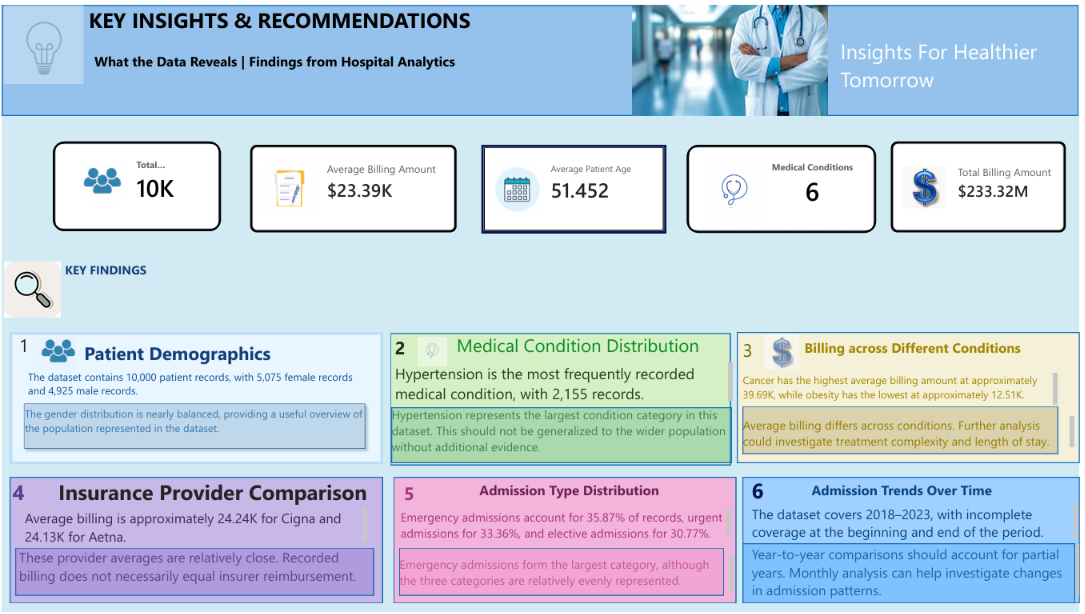

The dashboard page shown, as its layout file describes it:
{"tool":"powerbi","page":{"name":"Key Insights & Recommendations","canvas":[1920,1080],"ordinal":4},"visuals":[{"type":"shape","box":[0,0,1918,196],"z":0},{"type":"textbox","box":[153.6,0,728.8,182.4],"z":1000},{"type":"image","box":[3.2,0,142.4,140.8],"z":2000},{"type":"image","box":[1094,0,408,196],"z":3000},{"type":"textbox","box":[1494,56,424,117.6],"z":4000},{"type":"cardVisual","fields":{"Data":["Healthcare_Data_v1__1.Total Patients"]},"box":[90,242,300,160],"z":5000},{"type":"cardVisual","fields":{"Data":["Healthcare_Data_v1__1.Average Billing Amount"]},"box":[442,248,368,156],"z":6000},{"type":"cardVisual","fields":{"Data":["Healthcare_Data_v1__1.Medical Conditions"]},"box":[1220,248,338,157.2],"z":7000},{"type":"cardVisual","fields":{"Data":["Healthcare_Data_v1__1.Average Patient Age"]},"box":[854,248,330,158],"z":8000},{"type":"textbox","box":[112,456,300,168],"z":9000},{"type":"image","box":[0,456,108,100],"z":10000},{"type":"shape","box":[14,582,664,234],"z":11000},{"type":"textbox","box":[30,582,48,84],"z":12000},{"type":"image","box":[46,582,108,66],"z":13000},{"type":"textbox","box":[146,596,664,168],"z":14000},{"type":"textbox","box":[46,648,610,168],"z":15000},{"type":"textbox","box":[40,714,610,168],"z":16000},{"type":"shape","box":[30,700,626,98],"z":17000},{"type":"shape","box":[692,584,606,234],"z":18000},{"type":"textbox","box":[810,582,476,76],"z":19000},{"type":"image","box":[730,590,74,52],"z":20000},{"type":"textbox","box":[700,586,60,62],"z":21000},{"type":"textbox","box":[700,636,602,78],"z":22000},{"type":"textbox","box":[694,714,610,168],"z":23000},{"type":"shape","box":[694,716,606,98],"z":24000},{"type":"shape","box":[1310,582,610,232],"z":25000},{"type":"textbox","box":[1430,592,412,54],"z":26000},{"type":"textbox","box":[1320,654,562,62],"z":27000},{"type":"textbox","box":[1320,590,34,52],"z":28000},{"type":"textbox","box":[1320,732,592,64],"z":29000},{"type":"image","box":[1354,586,72,62],"z":30000},{"type":"shape","box":[1320,714,562,84],"z":31000},{"type":"shape","box":[14,840,664,224],"z":32000},{"type":"textbox","box":[18,840,24,56],"z":33000},{"type":"textbox","box":[90,840,566,70],"z":34000},{"type":"textbox","box":[40,896,610,70],"z":35000},{"type":"textbox","box":[30,966,610,114],"z":36000},{"type":"shape","box":[24,966,638,84],"z":37000},{"type":"shape","box":[698,840,610,224],"z":38000},{"type":"textbox","box":[844,846,340,42],"z":39000},{"type":"textbox","box":[716,846,26,56],"z":40000},{"type":"textbox","box":[710,896,590,62],"z":41000},{"type":"textbox","box":[708,980,596,70],"z":42000},{"type":"shape","box":[708,966,578,84],"z":43000},{"type":"shape","box":[1320,840,600,224],"z":44000},{"type":"textbox","box":[1436,846,330,50],"z":45000},{"type":"textbox","box":[1336,838,34,66],"z":46000},{"type":"textbox","box":[1336,888,582,72],"z":47000},{"type":"textbox","box":[1336,960,584,104],"z":48000},{"type":"shape","box":[1320,958,592,106],"z":49000},{"type":"cardVisual","fields":{"Data":["Healthcare_Data_v1__1.Total Billing Amount"]},"box":[1584,242,312,162],"z":49001}]}

Visuals, with their boxes in screenshot pixels (x1, y1, x2, y2), scaled from the page's 1920x1080 canvas onto the 1085x614 screenshot:
shape: rect(0, 0, 1084, 111)
textbox: rect(87, 0, 499, 104)
image: rect(2, 0, 82, 80)
image: rect(618, 0, 849, 111)
textbox: rect(844, 32, 1084, 99)
cardVisual - Healthcare_Data_v1__1.Total Patients: rect(51, 138, 220, 229)
cardVisual - Healthcare_Data_v1__1.Average Billing Amount: rect(250, 141, 458, 230)
cardVisual - Healthcare_Data_v1__1.Medical Conditions: rect(689, 141, 880, 230)
cardVisual - Healthcare_Data_v1__1.Average Patient Age: rect(483, 141, 669, 231)
textbox: rect(63, 259, 233, 355)
image: rect(0, 259, 61, 316)
shape: rect(8, 331, 383, 464)
textbox: rect(17, 331, 44, 379)
image: rect(26, 331, 87, 368)
textbox: rect(83, 339, 458, 434)
textbox: rect(26, 368, 371, 464)
textbox: rect(23, 406, 367, 501)
shape: rect(17, 398, 371, 454)
shape: rect(391, 332, 734, 465)
textbox: rect(458, 331, 727, 374)
image: rect(413, 335, 454, 365)
textbox: rect(396, 333, 429, 368)
textbox: rect(396, 362, 736, 406)
textbox: rect(392, 406, 737, 501)
shape: rect(392, 407, 735, 463)
shape: rect(740, 331, 1084, 463)
textbox: rect(808, 337, 1041, 367)
textbox: rect(746, 372, 1064, 407)
textbox: rect(746, 335, 765, 365)
textbox: rect(746, 416, 1080, 453)
image: rect(765, 333, 806, 368)
shape: rect(746, 406, 1064, 454)
shape: rect(8, 478, 383, 605)
textbox: rect(10, 478, 24, 509)
textbox: rect(51, 478, 371, 517)
textbox: rect(23, 509, 367, 549)
textbox: rect(17, 549, 362, 613)
shape: rect(14, 549, 374, 597)
shape: rect(394, 478, 739, 605)
textbox: rect(477, 481, 669, 505)
textbox: rect(405, 481, 419, 513)
textbox: rect(401, 509, 735, 545)
textbox: rect(400, 557, 737, 597)
shape: rect(400, 549, 727, 597)
shape: rect(746, 478, 1084, 605)
textbox: rect(811, 481, 998, 509)
textbox: rect(755, 476, 774, 514)
textbox: rect(755, 505, 1084, 546)
textbox: rect(755, 546, 1084, 605)
shape: rect(746, 545, 1080, 605)
cardVisual - Healthcare_Data_v1__1.Total Billing Amount: rect(895, 138, 1071, 230)
